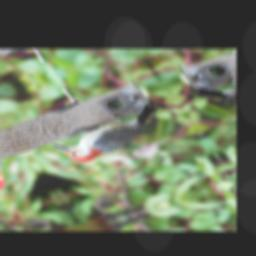Woodpecker: (42, 96, 184, 168)
